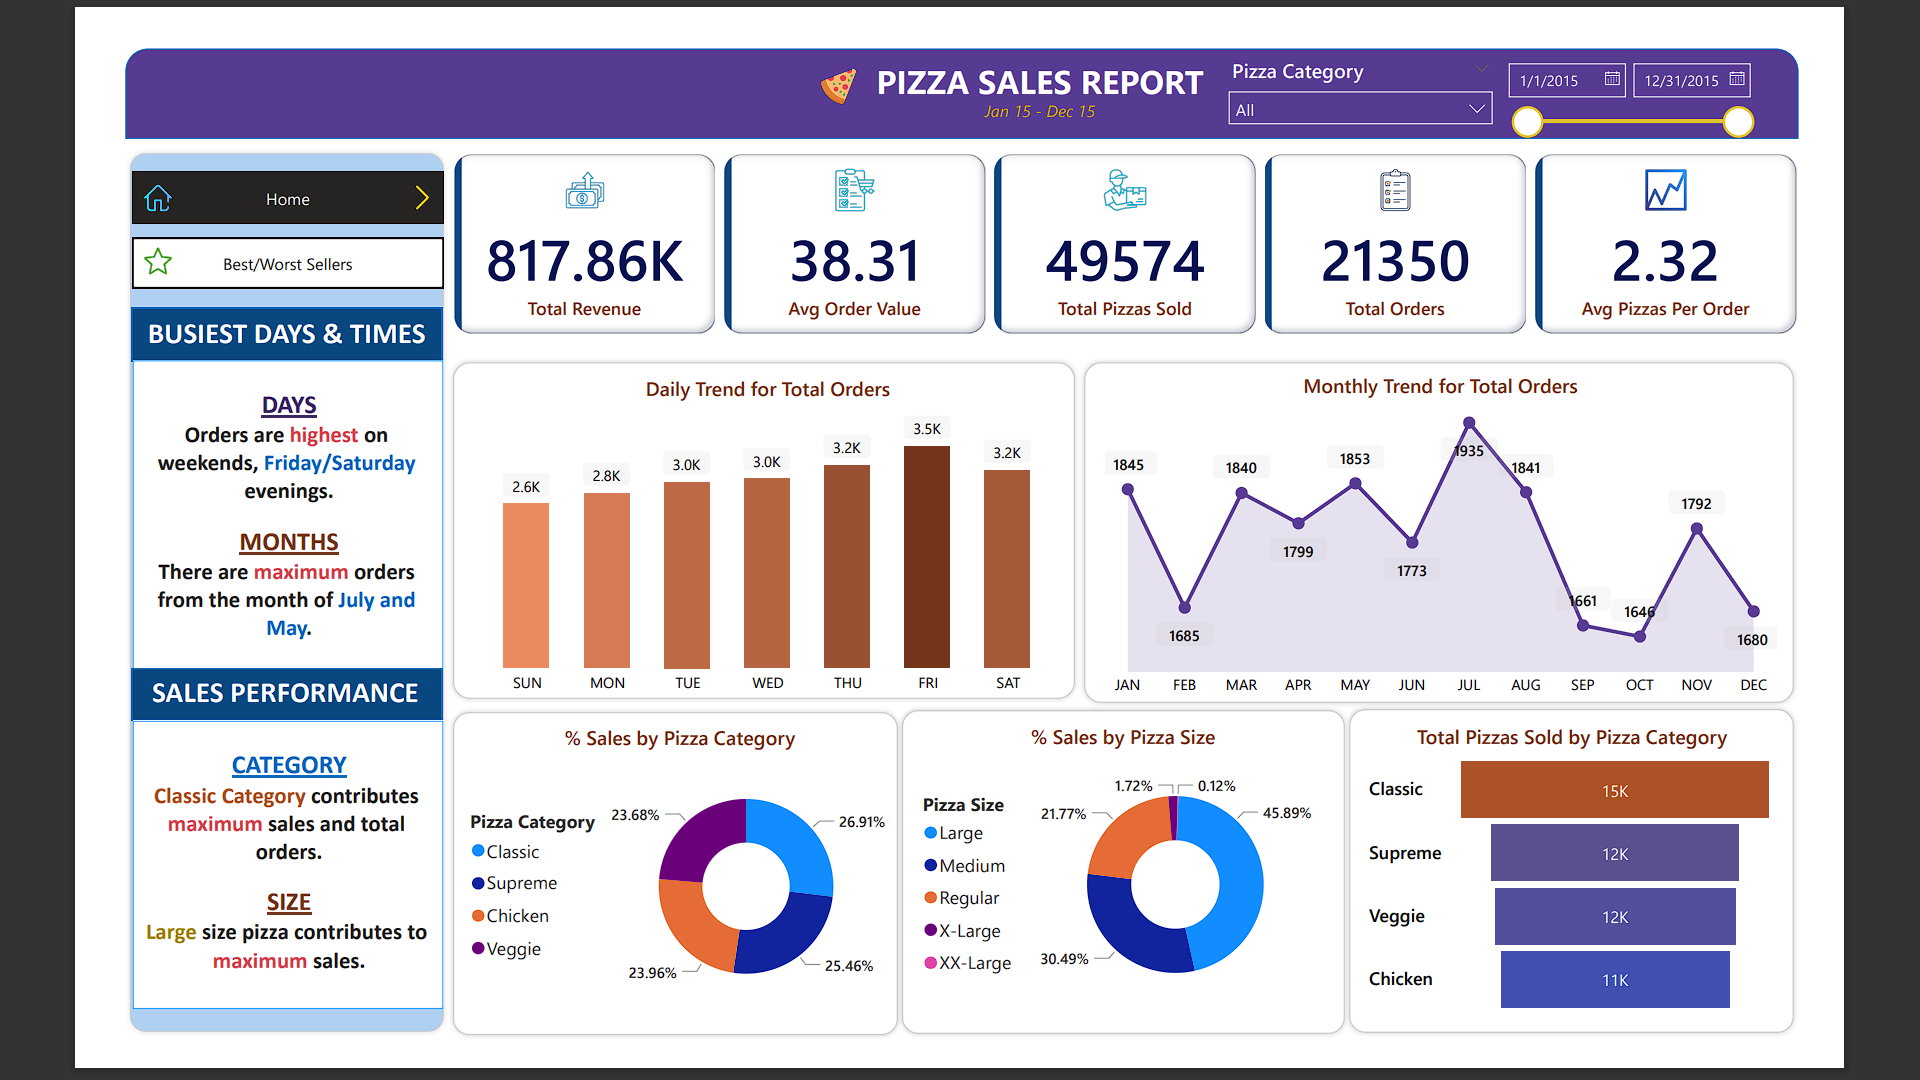

This screenshot's page, from the dashboard's own definition file:
{"tool":"powerbi","page":{"name":"Home","canvas":[1400,820],"ordinal":0},"visuals":[{"type":"cardVisual","fields":{"Data":["pizza_sales.Total Revenue","pizza_sales.Avg Order Value","pizza_sales.Total Pizzas Sold","pizza_sales.Total Orders","pizza_sales.Avg Pizzas Per Order"]},"box":[282.1,92.3,1111.1,155.6],"z":0},{"type":"shape","box":[18,10,1368,74],"z":1000},{"type":"textbox","box":[620.7,12.8,290.7,48.4],"z":2000},{"type":"textbox","box":[705.1,47.2,121.9,35.9],"z":3000},{"type":"image","box":[580.1,20.6,40.6,40.6],"z":4000},{"type":"shape","box":[282.2,263.3,515.6,282.2],"z":5000},{"type":"shape","box":[798.3,263.2,588,285.5],"z":6000},{"type":"columnChart","title":"Daily Trend for Total Orders","fields":{"Y":["pizza_sales.Total Orders"],"Category":["pizza_sales.Order Day"]},"box":[295.7,276.9,495.7,270.1],"z":7000},{"type":"areaChart","title":"Monthly Trend for Total Orders","fields":{"Category":["pizza_sales.Order Month"],"Y":["pizza_sales.Total Orders"]},"box":[813.7,275.2,559,273.5],"z":8000},{"type":"shape","box":[1015.4,547,370.9,271.8],"z":9000},{"type":"shape","box":[648.6,547.9,370.7,272.1],"z":10000},{"type":"shape","box":[282.1,548.7,370.9,271.8],"z":11000},{"type":"shape","box":[18.3,91.7,263.3,726.7],"z":12000},{"type":"donutChart","title":"% Sales by Pizza Category","fields":{"Category":["pizza_sales.pizza_category"],"Y":["pizza_sales.Total Revenue"]},"box":[295,563.3,353.3,243.3],"z":13000},{"type":"donutChart","title":"% Sales by Pizza Size","fields":{"Y":["pizza_sales.Total Revenue"],"Category":["pizza_sales.pizza_size"]},"box":[665,561.7,338.3,243.3],"z":14000},{"type":"funnel","title":"Total Pizzas Sold by Pizza Category","fields":{"Category":["pizza_sales.pizza_category"],"Y":["pizza_sales.Total Pizzas Sold"]},"box":[1030,561.7,341.7,243.3],"z":15000},{"type":"shape","box":[23.3,222.2,253.3,43.3],"z":16000},{"type":"textbox","box":[22.9,222.9,254.3,44.3],"z":17000},{"type":"textbox","box":[23.8,265,253.8,252.5],"z":18000},{"type":"shape","box":[23.3,516.7,253.3,43.3],"z":19000},{"type":"textbox","box":[22.2,517.2,253.3,42.2],"z":20000},{"type":"textbox","box":[23.8,560,253.8,236.2],"z":21000},{"type":"slicer","fields":{"Values":["pizza_sales.pizza_category"]},"box":[910,12,236,72],"z":25000},{"type":"slicer","fields":{"Values":["pizza_sales.order_date"]},"box":[1136,12,222,80],"z":26000},{"type":"pageNavigator","box":[23.8,111.2,253.8,41.2],"z":27000},{"type":"image","box":[245.7,115,30,33.6],"z":30500},{"type":"image","box":[28.6,115,32.1,33.6],"z":32500},{"type":"pageNavigator","box":[23.8,165,253.8,41.2],"z":37001},{"type":"image","box":[29.3,167.1,32.1,33.6],"z":37501}]}

Visuals, with their boxes on the page's 1400x820 design canvas (x1, y1, x2, y2). These are canvas units, not pixel positions in the 1920x1080 screenshot, which may show the page scaled, cropped or inside an application window:
cardVisual - pizza_sales.Total Revenue x pizza_sales.Avg Order Value: bbox=[282, 92, 1393, 248]
shape: bbox=[18, 10, 1386, 84]
textbox: bbox=[621, 13, 911, 61]
textbox: bbox=[705, 47, 827, 83]
image: bbox=[580, 21, 621, 61]
shape: bbox=[282, 263, 798, 546]
shape: bbox=[798, 263, 1386, 549]
"Daily Trend for Total Orders" columnChart: bbox=[296, 277, 791, 547]
"Monthly Trend for Total Orders" areaChart: bbox=[814, 275, 1373, 549]
shape: bbox=[1015, 547, 1386, 819]
shape: bbox=[649, 548, 1019, 820]
shape: bbox=[282, 549, 653, 820]
shape: bbox=[18, 92, 282, 818]
"% Sales by Pizza Category" donutChart: bbox=[295, 563, 648, 807]
"% Sales by Pizza Size" donutChart: bbox=[665, 562, 1003, 805]
"Total Pizzas Sold by Pizza Category" funnel: bbox=[1030, 562, 1372, 805]
shape: bbox=[23, 222, 277, 266]
textbox: bbox=[23, 223, 277, 267]
textbox: bbox=[24, 265, 278, 518]
shape: bbox=[23, 517, 277, 560]
textbox: bbox=[22, 517, 276, 559]
textbox: bbox=[24, 560, 278, 796]
slicer - pizza_sales.pizza_category: bbox=[910, 12, 1146, 84]
slicer - pizza_sales.order_date: bbox=[1136, 12, 1358, 92]
pageNavigator: bbox=[24, 111, 278, 152]
image: bbox=[246, 115, 276, 149]
image: bbox=[29, 115, 61, 149]
pageNavigator: bbox=[24, 165, 278, 206]
image: bbox=[29, 167, 61, 201]
